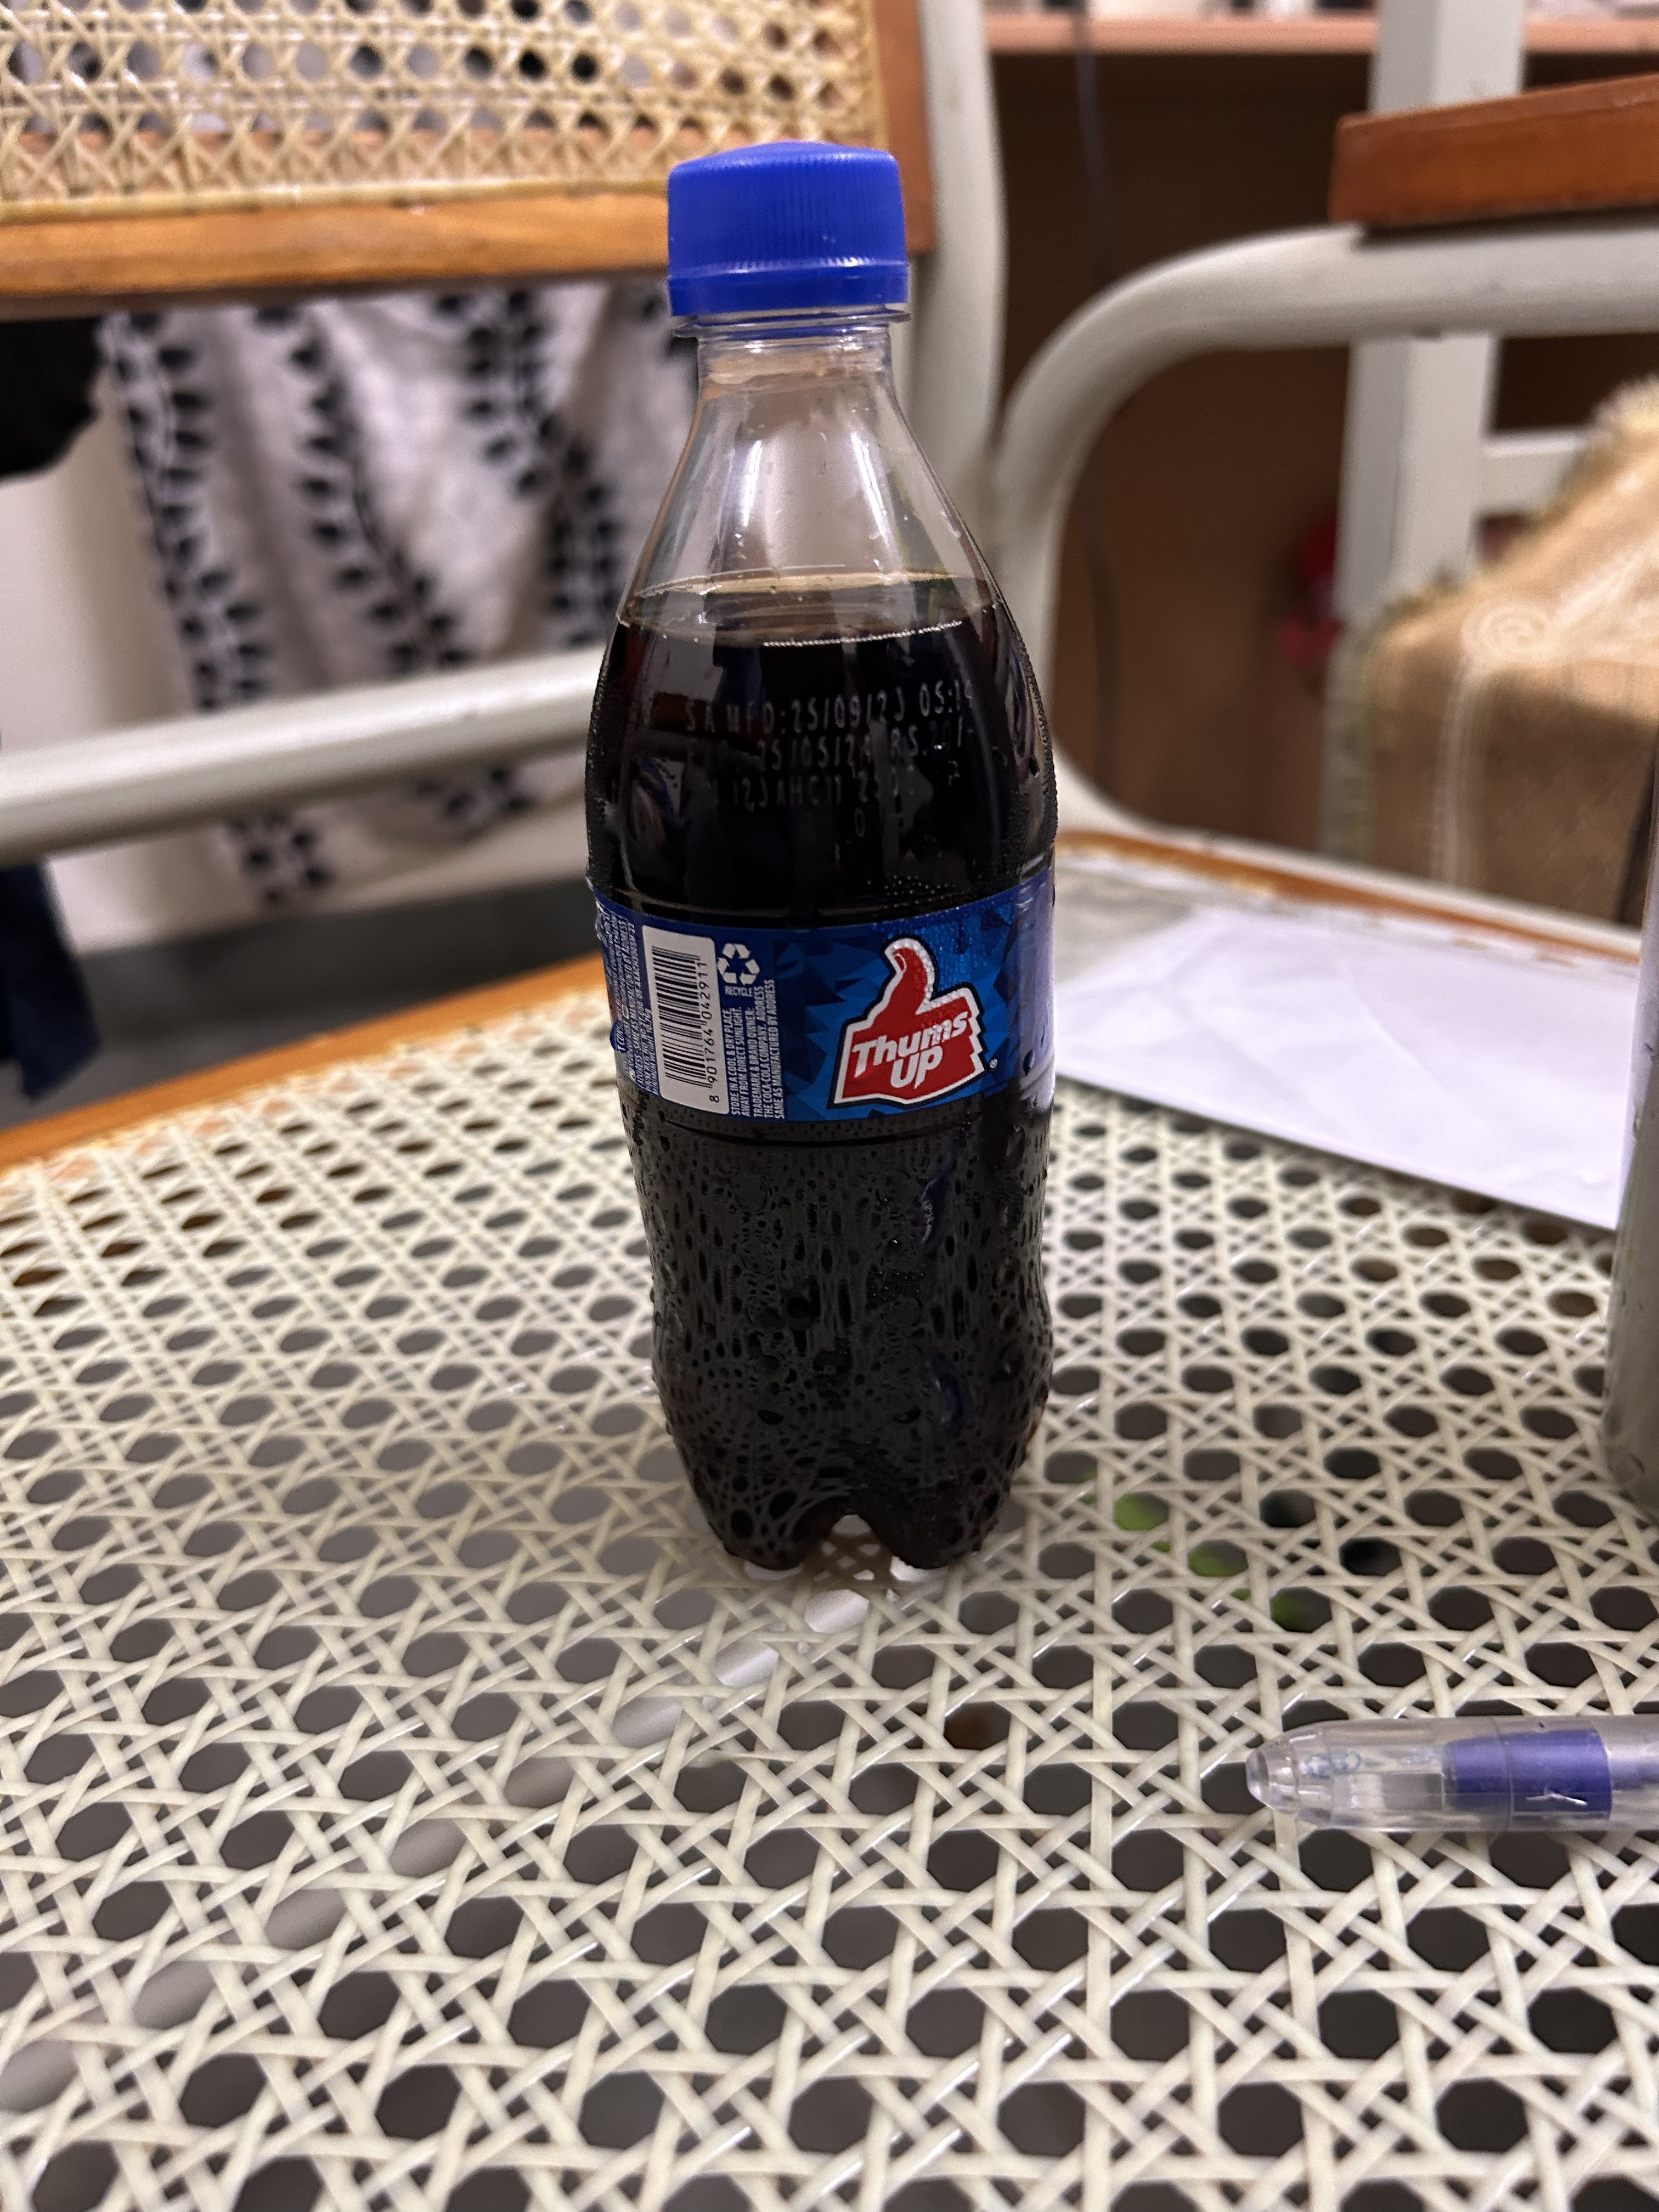sealstable: (641, 125, 950, 402)
